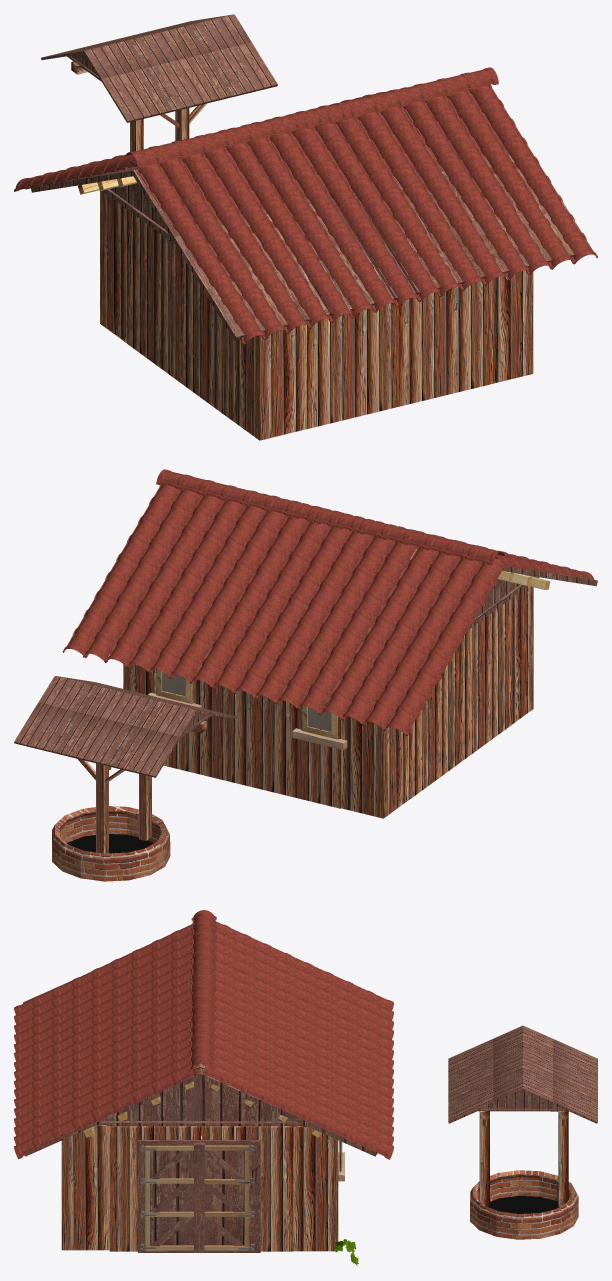
File: projeto fazenda blender completo.fbx
3 views of the same model, one above another, from view 1: azimuth 30°, elevation 25°; view 2: azimuth 150°, elevation 25°; view 3: azimuth 270°, elevation 25° (orthographic). The views are drawn at different scales.
Visible parts, largest first — view 1: telhado poco, telhado, parede01.003, parede01.002, paredecanto.002, parede01.006, telha.032, parede01.005, paredecanto.001, telha.016, telha.018, telha.031 (+16 smaller); view 2: telhado poco, parede01, poço, parede01.005, parede01.001, paredecanto.004, telha.032, parede01.006, telha.015, telha.011, telha.010, telha.014 (+18 smaller); view 3: telhado poco, portaceleiro, telhado, poço, paredecanto.001, paredecanto.003, parede01.004, parede01.007, telha.032, ripasporta, telha, telha.031 (+34 smaller).
Boxes of the visible parts, left/top/right/bottom form: telhado poco: left=41, top=14, right=277, bottom=122; telhado: left=31, top=90, right=592, bottom=340; parede01.003: left=398, top=281, right=490, bottom=406; parede01.002: left=307, top=303, right=398, bottom=428; paredecanto.002: left=233, top=324, right=306, bottom=440; parede01.006: left=127, top=209, right=180, bottom=382; telha.032: left=125, top=67, right=498, bottom=168; parede01.005: left=180, top=253, right=233, bottom=420; paredecanto.001: left=490, top=270, right=533, bottom=383; telha.016: left=137, top=163, right=268, bottom=344; telha.018: left=181, top=152, right=311, bottom=334; telha.031: left=469, top=84, right=597, bottom=264; telhado poco: left=14, top=676, right=236, bottom=777; parede01: left=254, top=695, right=340, bottom=808; poço: left=52, top=806, right=170, bottom=881; parede01.005: left=459, top=600, right=509, bottom=762; parede01.001: left=168, top=675, right=254, bottom=787; paredecanto.004: left=341, top=716, right=408, bottom=818; telha.032: left=156, top=469, right=504, bottom=565; parede01.006: left=409, top=645, right=459, bottom=799; telha.015: left=384, top=558, right=505, bottom=736; telha.011: left=297, top=541, right=417, bottom=714; telha.010: left=276, top=536, right=395, bottom=709; telha.014: left=362, top=557, right=482, bottom=730; telhado poco: left=448, top=1025, right=597, bottom=1123; portaceleiro: left=138, top=1139, right=260, bottom=1252; telhado: left=23, top=981, right=377, bottom=1156; poço: left=470, top=1170, right=578, bottom=1239; paredecanto.001: left=61, top=1125, right=109, bottom=1250; paredecanto.003: left=292, top=1126, right=338, bottom=1251; parede01.004: left=201, top=1126, right=293, bottom=1251; parede01.007: left=109, top=1126, right=200, bottom=1251; telha.032: left=188, top=910, right=216, bottom=1071; ripasporta: left=145, top=1145, right=249, bottom=1250; telha: left=202, top=1063, right=393, bottom=1159; telha.031: left=14, top=1064, right=198, bottom=1159.
Size of the model in its own units: 807 by 518 by 1276.
